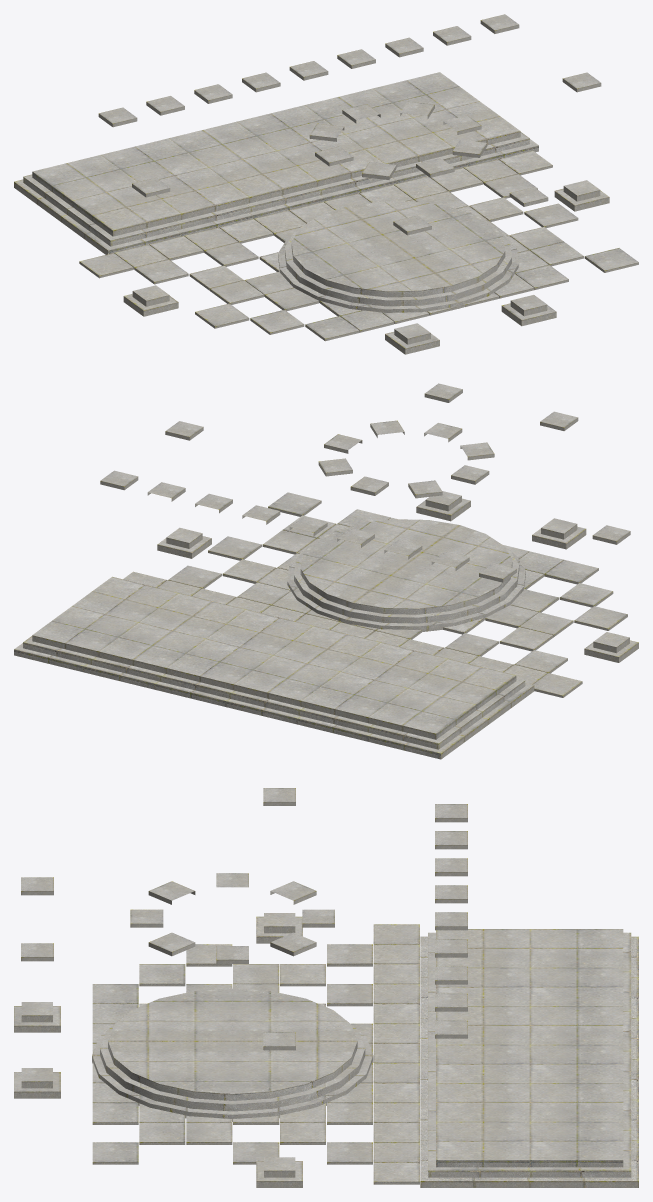
Rendered from hele_civic_tiles_short.dae.
The picture shows the model from 3 angles, top to bottom: view 1: azimuth 30°, elevation 25°; view 2: azimuth 150°, elevation 25°; view 3: azimuth 270°, elevation 25°; orthographic projection. The views are drawn at different scales.
Visible parts, largest first — view 1: tiles-Pivot; view 2: tiles-Pivot; view 3: tiles-Pivot.
Part boxes in pixels (bbox=[...]): tiles-Pivot: bbox=[14, 14, 638, 354]; tiles-Pivot: bbox=[14, 383, 638, 759]; tiles-Pivot: bbox=[14, 788, 638, 1187].
Bounding box in the file's own units: 28.84 × 28.84 × 7.43.
